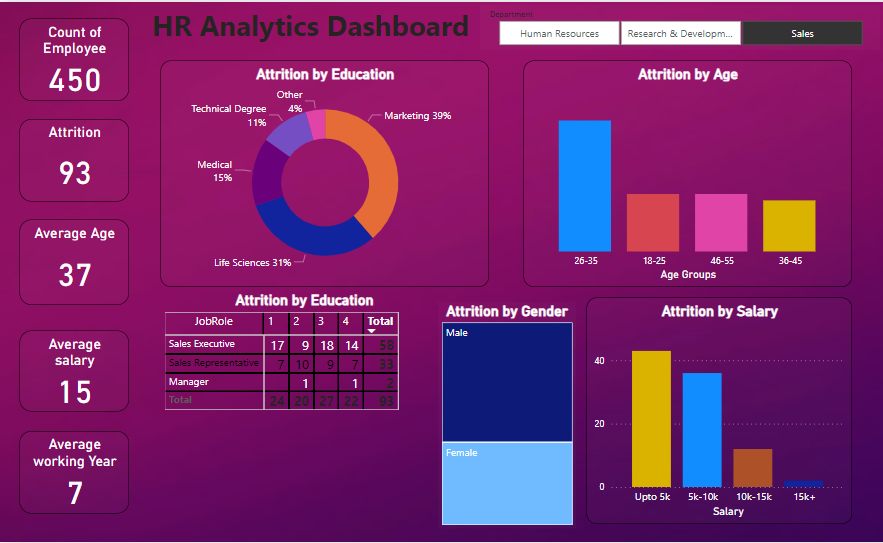

What the dashboard file says about the page in this screenshot:
{"tool":"powerbi","page":{"name":"Page 1","canvas":[1280,720],"ordinal":0},"visuals":[{"type":"textbox","box":[152,0,524,64],"z":0},{"type":"card","title":"Average Age","fields":{"Values":["Avg(HR_Analytics (1).Age)"]},"box":[26,290,146,114],"z":1000},{"type":"card","title":"Average salary","fields":{"Values":["Avg(HR_Analytics (1).PercentSalaryHike)"]},"box":[26,438,146,108],"z":2000},{"type":"card","title":"Attrition","fields":{"Values":["CountNonNull(HR_Analytics (1).AttritionCount)"]},"box":[26,156,146,110],"z":3000},{"type":"card","title":"Count of Employee","fields":{"Values":["CountNonNull(HR_Analytics (1).EmpID)"]},"box":[26,22,146,110],"z":4000},{"type":"card","title":"Average working Year","fields":{"Values":["Avg(HR_Analytics (1).YearsAtCompany)"]},"box":[26,572,146,110],"z":5000},{"type":"donutChart","title":"Attrition by Education","fields":{"Category":["HR_Analytics (1).EducationField"],"Y":["CountNonNull(HR_Analytics (1).AttritionCount)"]},"box":[214,78,438,302],"z":6000},{"type":"columnChart","title":"Attrition by Salary","fields":{"Category":["HR_Analytics (1).SalarySlab"],"Y":["CountNonNull(HR_Analytics (1).AttritionCount)"]},"box":[782,394,354,302],"z":7000},{"type":"pivotTable","title":"Attrition by Education","fields":{"Values":["CountNonNull(HR_Analytics (1).AttritionCount)"],"Rows":["HR_Analytics (1).JobRole"],"Columns":["HR_Analytics (1).JobSatisfaction"]},"box":[214,386,384,326],"z":8000},{"type":"columnChart","title":"Attrition by Age","fields":{"Category":["HR_Analytics (1).AgeGroup"],"Y":["CountNonNull(HR_Analytics (1).AttritionCount)"]},"box":[698,78,438,302],"z":9000},{"type":"treemap","title":"Attrition by Gender","fields":{"Group":["HR_Analytics (1).Gender"],"Values":["CountNonNull(HR_Analytics (1).AttritionCount)"]},"box":[584,400,184,302],"z":10000},{"type":"slicer","fields":{"Values":["HR_Analytics (1).Department"]},"box":[640,4,534,60],"z":10001}]}

Visuals, with their boxes on the page's 1280x720 design canvas (x1, y1, x2, y2). These are canvas units, not pixel positions in the 883x543 screenshot, which may show the page scaled, cropped or inside an application window:
textbox: box=[152, 0, 676, 64]
"Average Age" card: box=[26, 290, 172, 404]
"Average salary" card: box=[26, 438, 172, 546]
"Attrition" card: box=[26, 156, 172, 266]
"Count of Employee" card: box=[26, 22, 172, 132]
"Average working Year" card: box=[26, 572, 172, 682]
"Attrition by Education" donutChart: box=[214, 78, 652, 380]
"Attrition by Salary" columnChart: box=[782, 394, 1136, 696]
"Attrition by Education" pivotTable: box=[214, 386, 598, 712]
"Attrition by Age" columnChart: box=[698, 78, 1136, 380]
"Attrition by Gender" treemap: box=[584, 400, 768, 702]
slicer - HR_Analytics (1).Department: box=[640, 4, 1174, 64]
